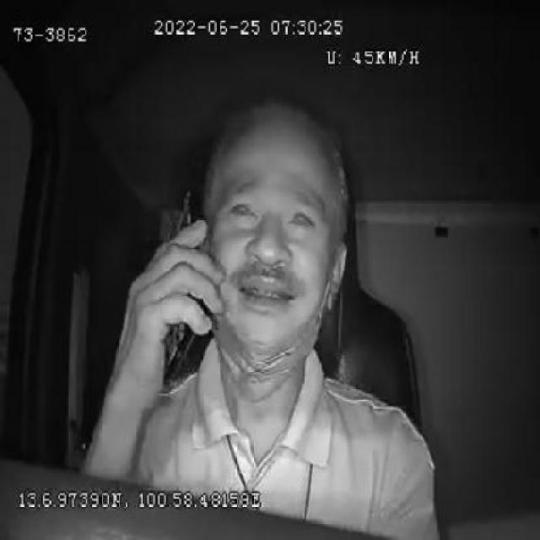phone: (156, 187, 203, 380)
